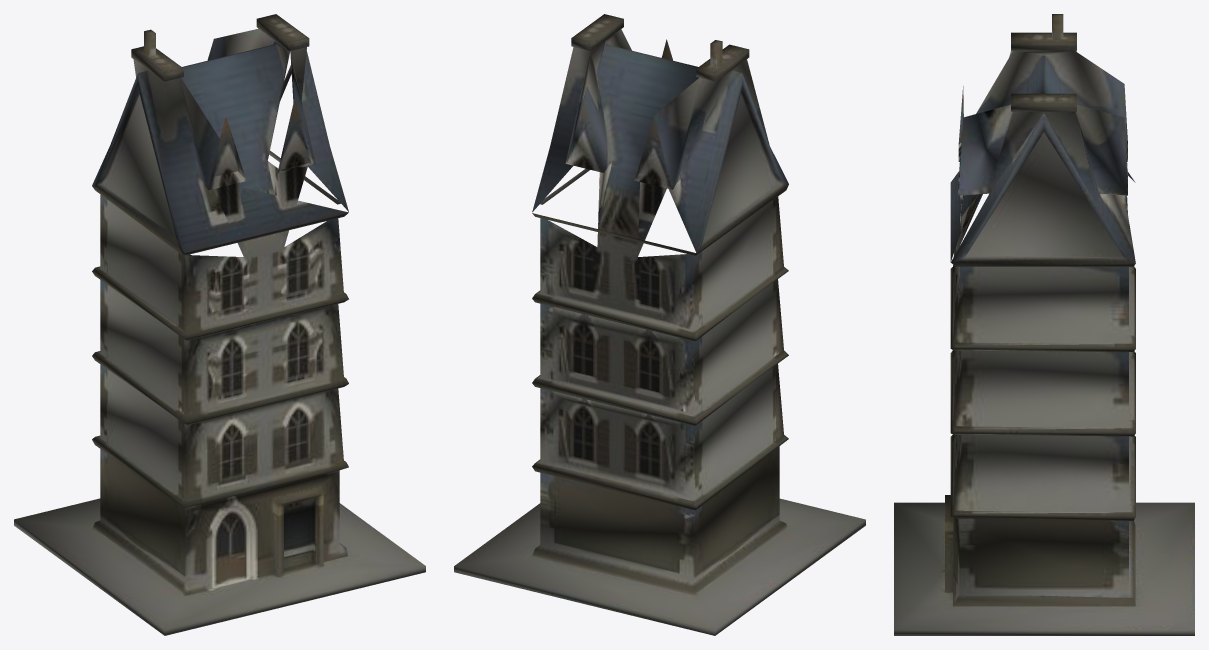
File: house-1.glb
3 views of the same model, side by side, from view 1: azimuth 30°, elevation 25°; view 2: azimuth 150°, elevation 25°; view 3: azimuth 270°, elevation 25° (orthographic).
Visible parts, largest first — view 1: tripo_node_ceb67edc-7def-4ed8-b56a-d5d31; view 2: tripo_node_ceb67edc-7def-4ed8-b56a-d5d31; view 3: tripo_node_ceb67edc-7def-4ed8-b56a-d5d31.
Part boxes in pixels (<box>): tripo_node_ceb67edc-7def-4ed8-b56a-d5d31: <box>14,14,425,635</box>; tripo_node_ceb67edc-7def-4ed8-b56a-d5d31: <box>454,14,865,635</box>; tripo_node_ceb67edc-7def-4ed8-b56a-d5d31: <box>894,14,1194,635</box>.
Bounding box in the file's own units: 12.45 × 24 × 12.45.
1 material, 1 textured.
